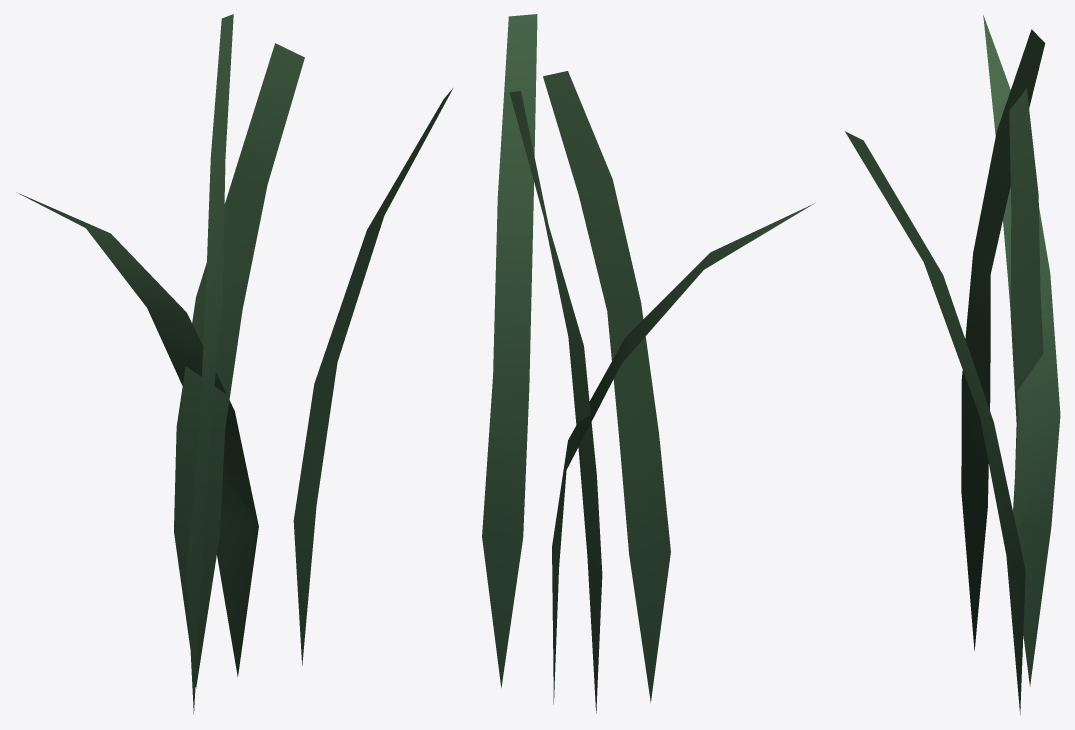
The model's file is trees-grasses-tall-grass_v6.glb.
3 renders of one model, left to right at view 1: azimuth 30°, elevation 25°; view 2: azimuth 150°, elevation 25°; view 3: azimuth 270°, elevation 25°, orthographic. The views are drawn at different scales.
Parts seen in each view (by area): view 1: Tall Grass_v6; view 2: Tall Grass_v6; view 3: Tall Grass_v6.
Part boxes in pixels (left/top/right/bottom): Tall Grass_v6: left=16, top=14, right=452, bottom=714; Tall Grass_v6: left=482, top=14, right=814, bottom=713; Tall Grass_v6: left=845, top=15, right=1060, bottom=714.
Bounding box in the file's own units: 0.2991 × 0.5 × 0.1503.
